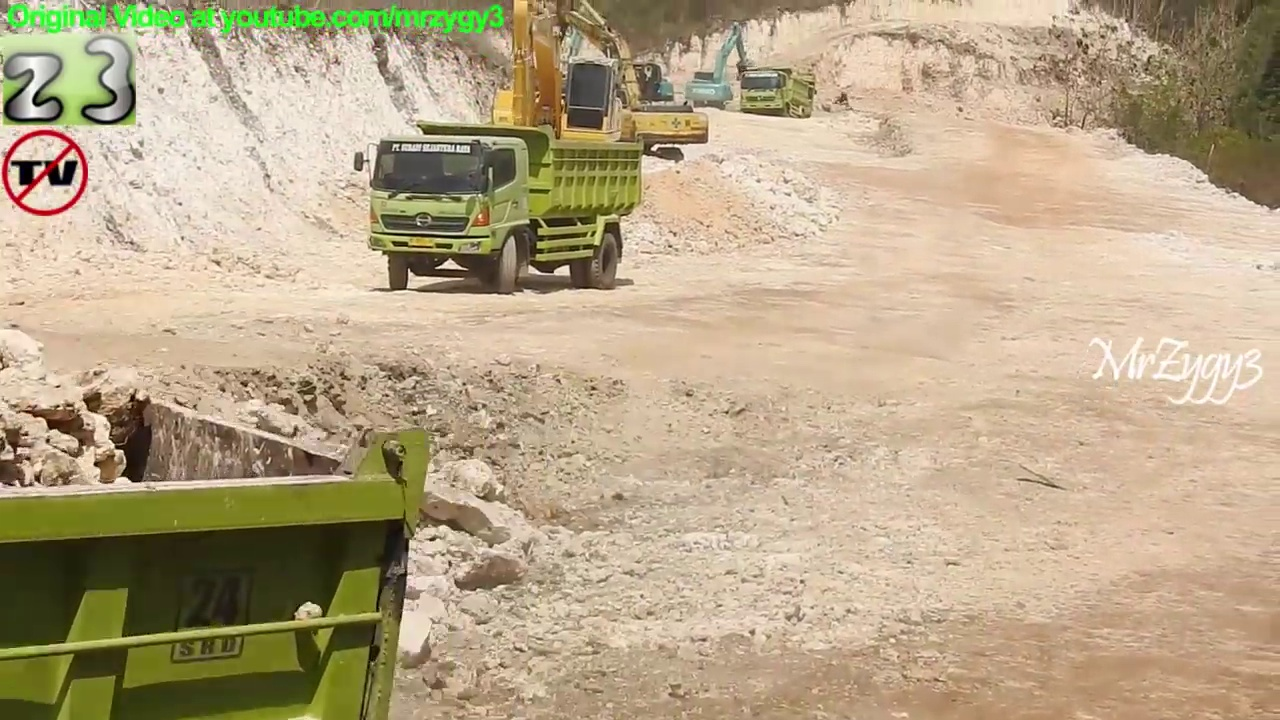excavator: (448, 1, 653, 207), (510, 1, 712, 171), (558, 1, 681, 117), (681, 16, 753, 113)
truck: (1, 375, 437, 720), (353, 117, 644, 293), (736, 62, 820, 121)
